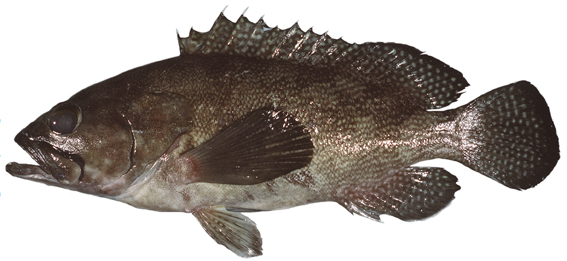fish: (5, 5, 561, 258)
